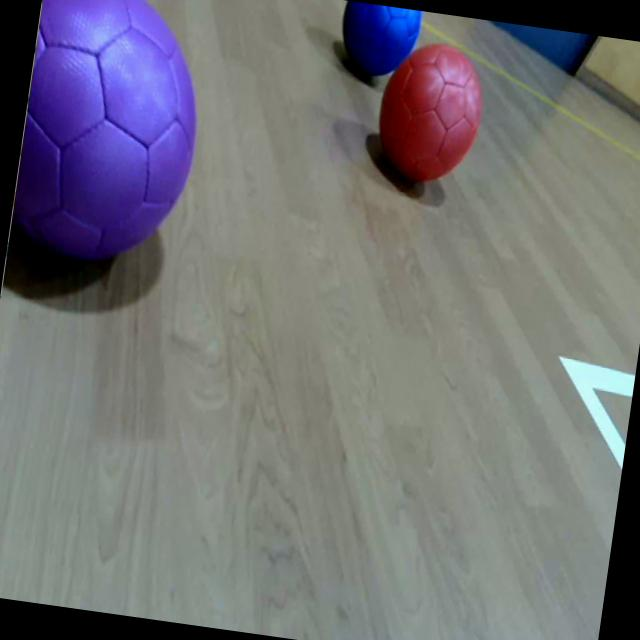blue_ball: (334, 0, 421, 81)
purple_ball: (5, 0, 216, 287)
red_ball: (371, 39, 488, 188)
